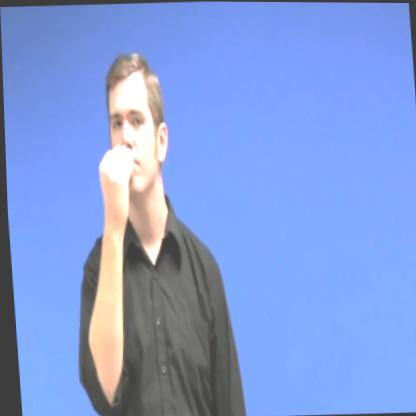Food: (82, 43, 178, 237)
